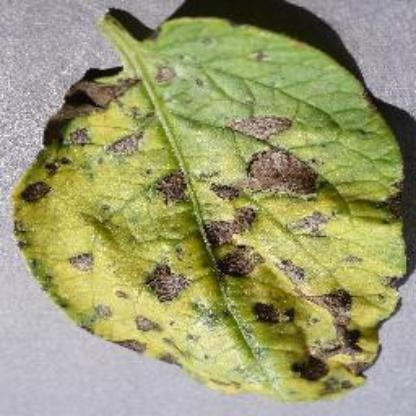Early-Blight: (13, 13, 406, 398)
